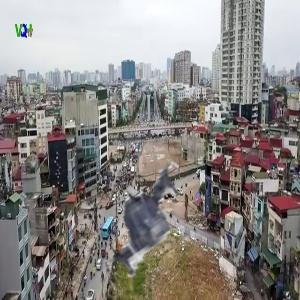drone: (77, 153, 217, 293)
